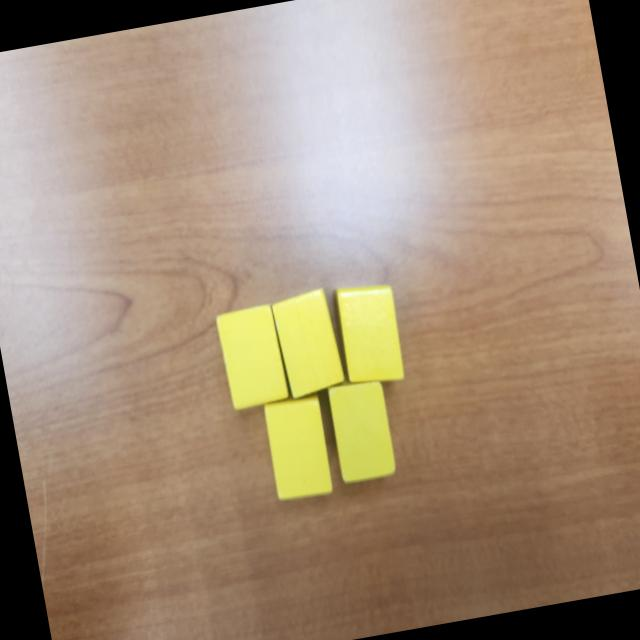yellow: (260, 392, 337, 503), (214, 303, 292, 411), (331, 280, 408, 389), (270, 287, 344, 398), (325, 376, 399, 484)
